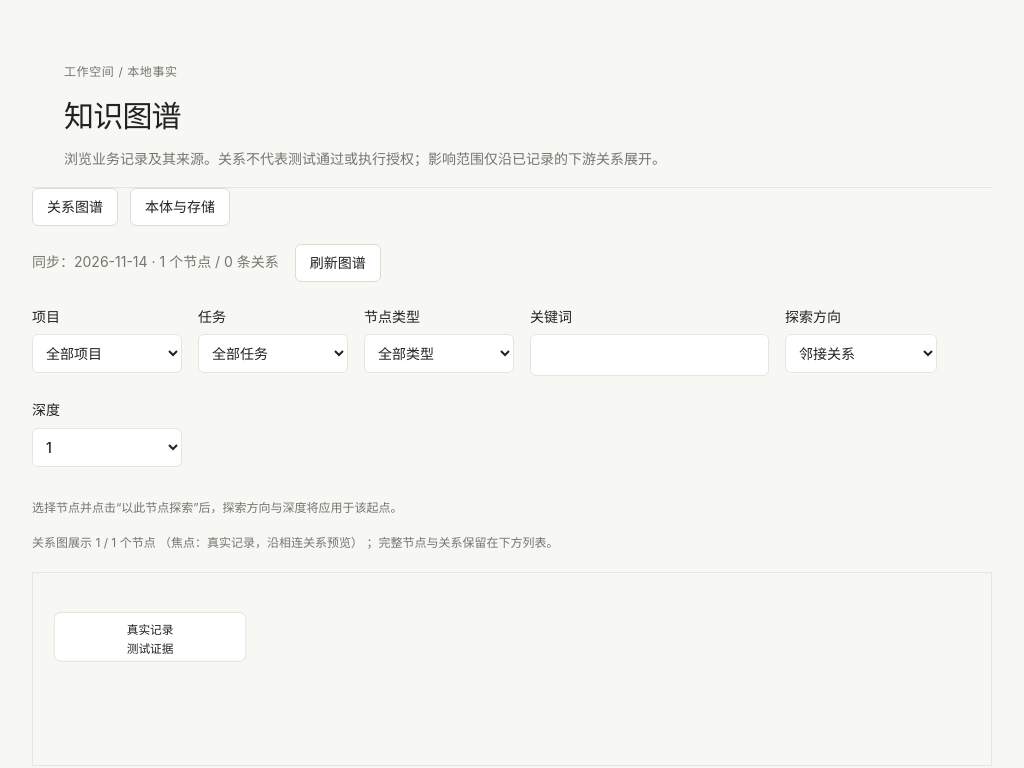
Test: aborts obsolete graph reads and disables rebuild in read-only recovery
Step 1. Type "new" into the search field labelled "关键词" → x=650, y=355, box left=530, top=334, right=769, bottom=376
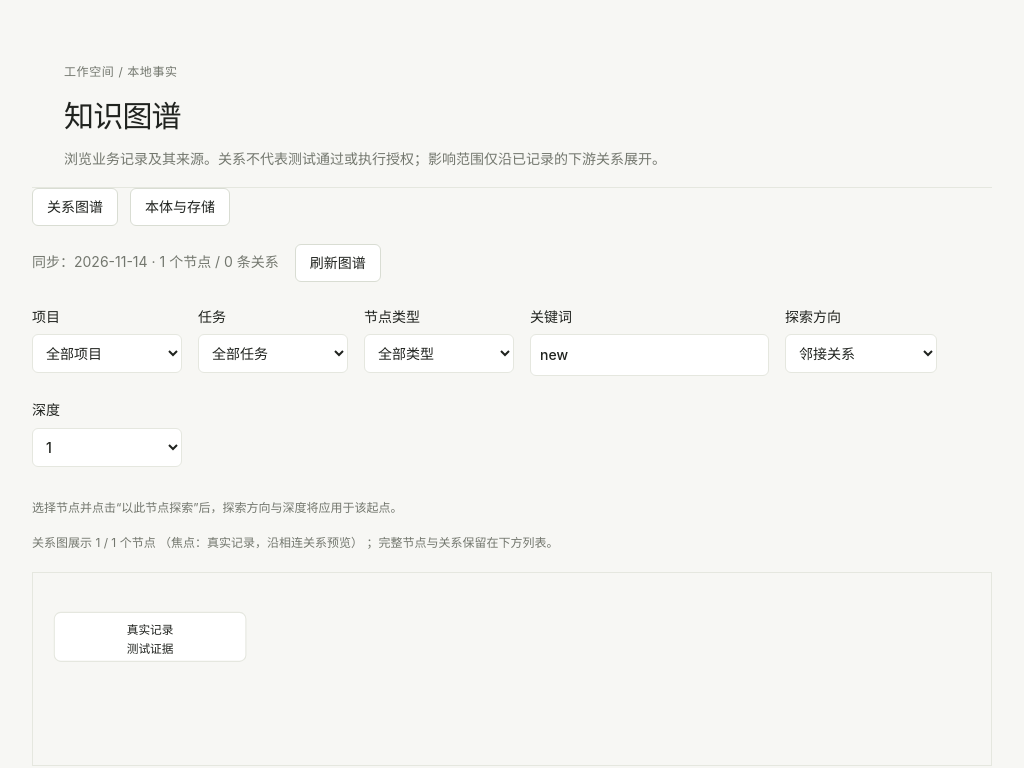
Step 2. Click the tab "本体与存储" → x=180, y=207, box left=130, top=188, right=230, bottom=226
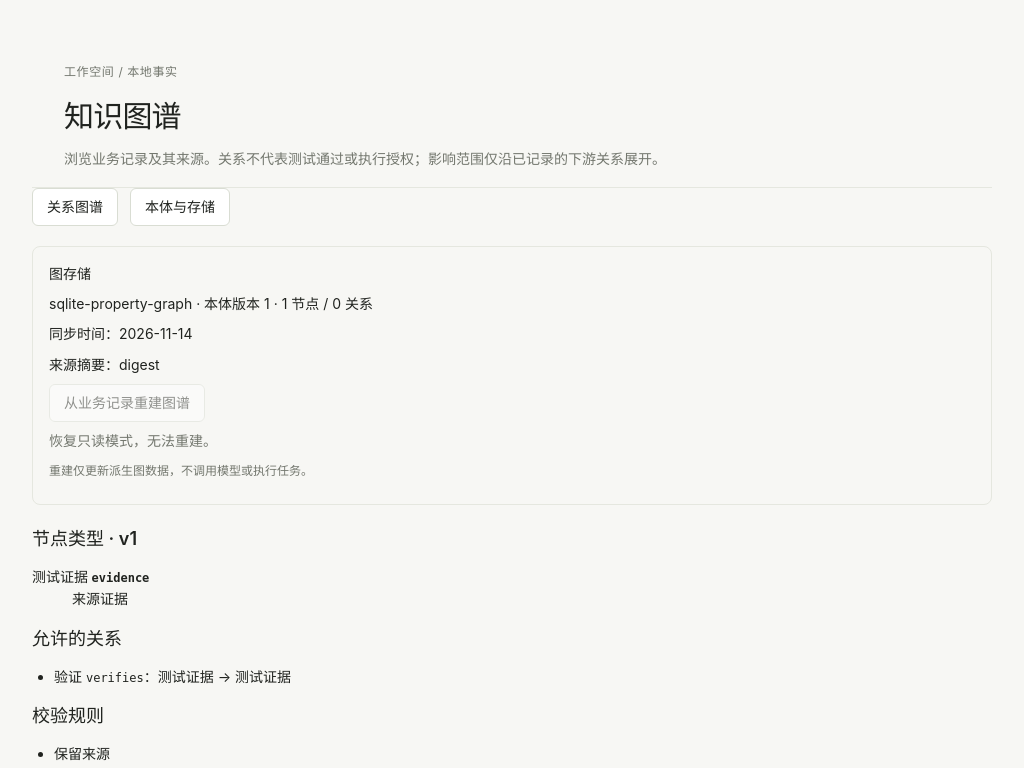
Expected: the button "从业务记录重建图谱" is disabled, left=49, top=384, right=205, bottom=422
